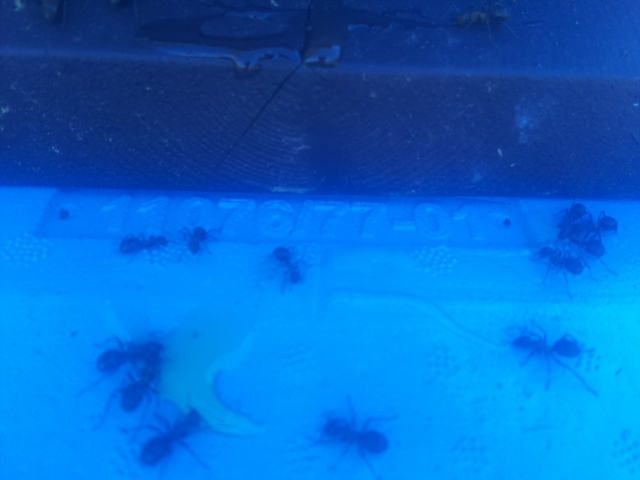ant: (265, 241, 308, 289)
